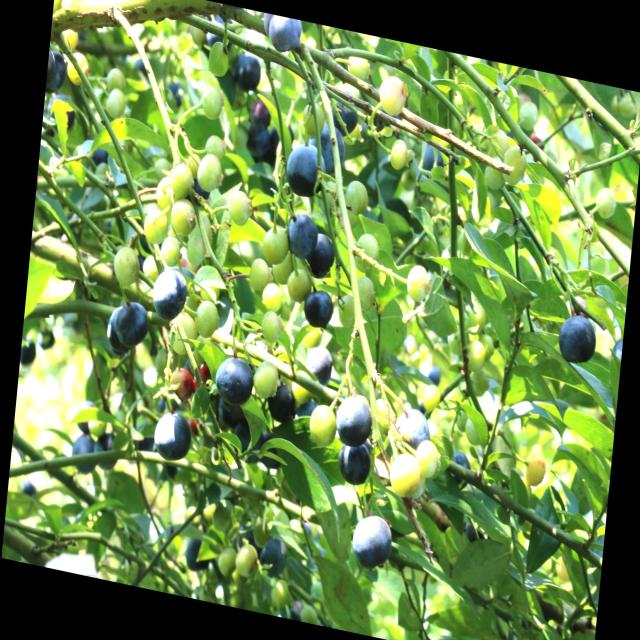blueberry: (281, 137, 328, 200), (348, 508, 395, 571), (211, 352, 258, 408), (555, 310, 597, 370), (304, 120, 347, 176), (152, 407, 194, 462), (150, 266, 188, 326), (333, 392, 372, 446), (324, 88, 364, 140), (336, 437, 374, 487), (394, 402, 432, 450), (264, 13, 304, 56), (115, 300, 150, 348), (285, 210, 317, 260), (307, 232, 337, 283), (302, 285, 334, 330), (304, 343, 336, 388), (268, 381, 298, 427), (232, 48, 262, 93), (258, 535, 290, 576), (445, 444, 474, 489), (70, 432, 98, 478), (182, 532, 210, 572), (242, 115, 269, 156), (92, 431, 118, 472), (231, 519, 260, 555), (89, 144, 111, 178)
blueberry-halfripe: (168, 363, 197, 404), (196, 360, 216, 395)
blueberry-unripe: (387, 447, 422, 501), (377, 72, 411, 120), (110, 243, 142, 289), (168, 309, 199, 356), (308, 399, 338, 446), (250, 356, 282, 400), (498, 138, 527, 186), (259, 222, 290, 266), (413, 436, 443, 479), (404, 260, 431, 307), (194, 151, 225, 191), (343, 47, 374, 87), (168, 197, 197, 239), (342, 175, 371, 217), (142, 204, 170, 245), (300, 96, 327, 138), (482, 121, 509, 163), (192, 300, 220, 340), (228, 186, 254, 229), (386, 132, 411, 176), (352, 231, 380, 270), (258, 306, 285, 346), (521, 447, 547, 488), (200, 83, 225, 124), (333, 290, 358, 331), (64, 46, 90, 85), (461, 298, 488, 335), (285, 265, 311, 303), (169, 161, 193, 202), (205, 39, 230, 78), (247, 252, 270, 294), (352, 273, 376, 313), (234, 540, 259, 578), (154, 171, 177, 211), (104, 86, 128, 123), (159, 234, 183, 269), (183, 233, 207, 267), (272, 251, 294, 288), (261, 277, 284, 312), (216, 542, 238, 578), (466, 334, 488, 370), (482, 160, 506, 192), (518, 98, 539, 134), (204, 132, 228, 162), (104, 64, 126, 94), (421, 380, 441, 412), (59, 22, 80, 52), (141, 254, 161, 282), (186, 151, 202, 177), (52, 0, 66, 17)
